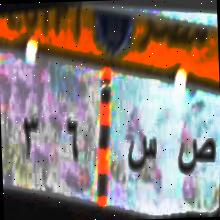3: (14, 111, 47, 164)
6: (62, 112, 83, 172)
saad: (173, 129, 217, 193)
seen: (121, 134, 159, 183)
